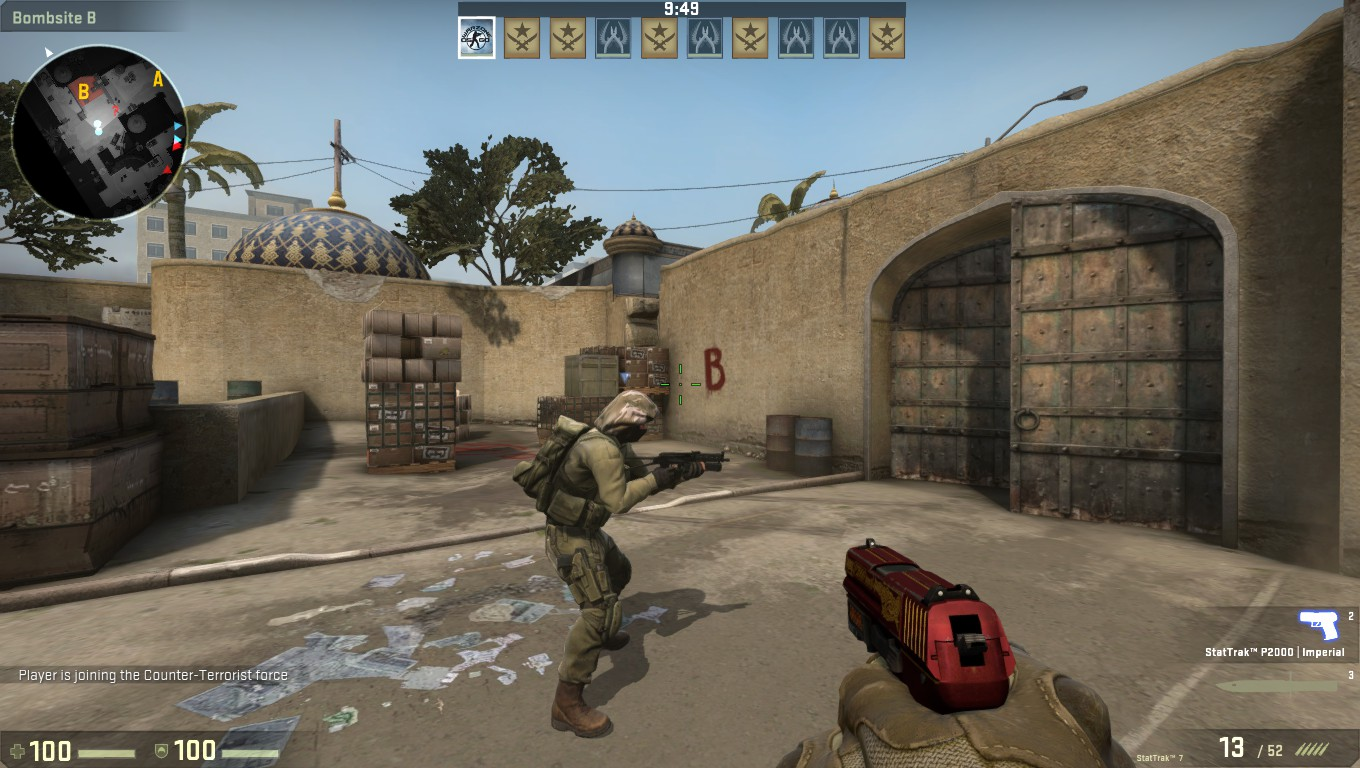c: (534, 385, 676, 733)
ch: (592, 386, 658, 449)
